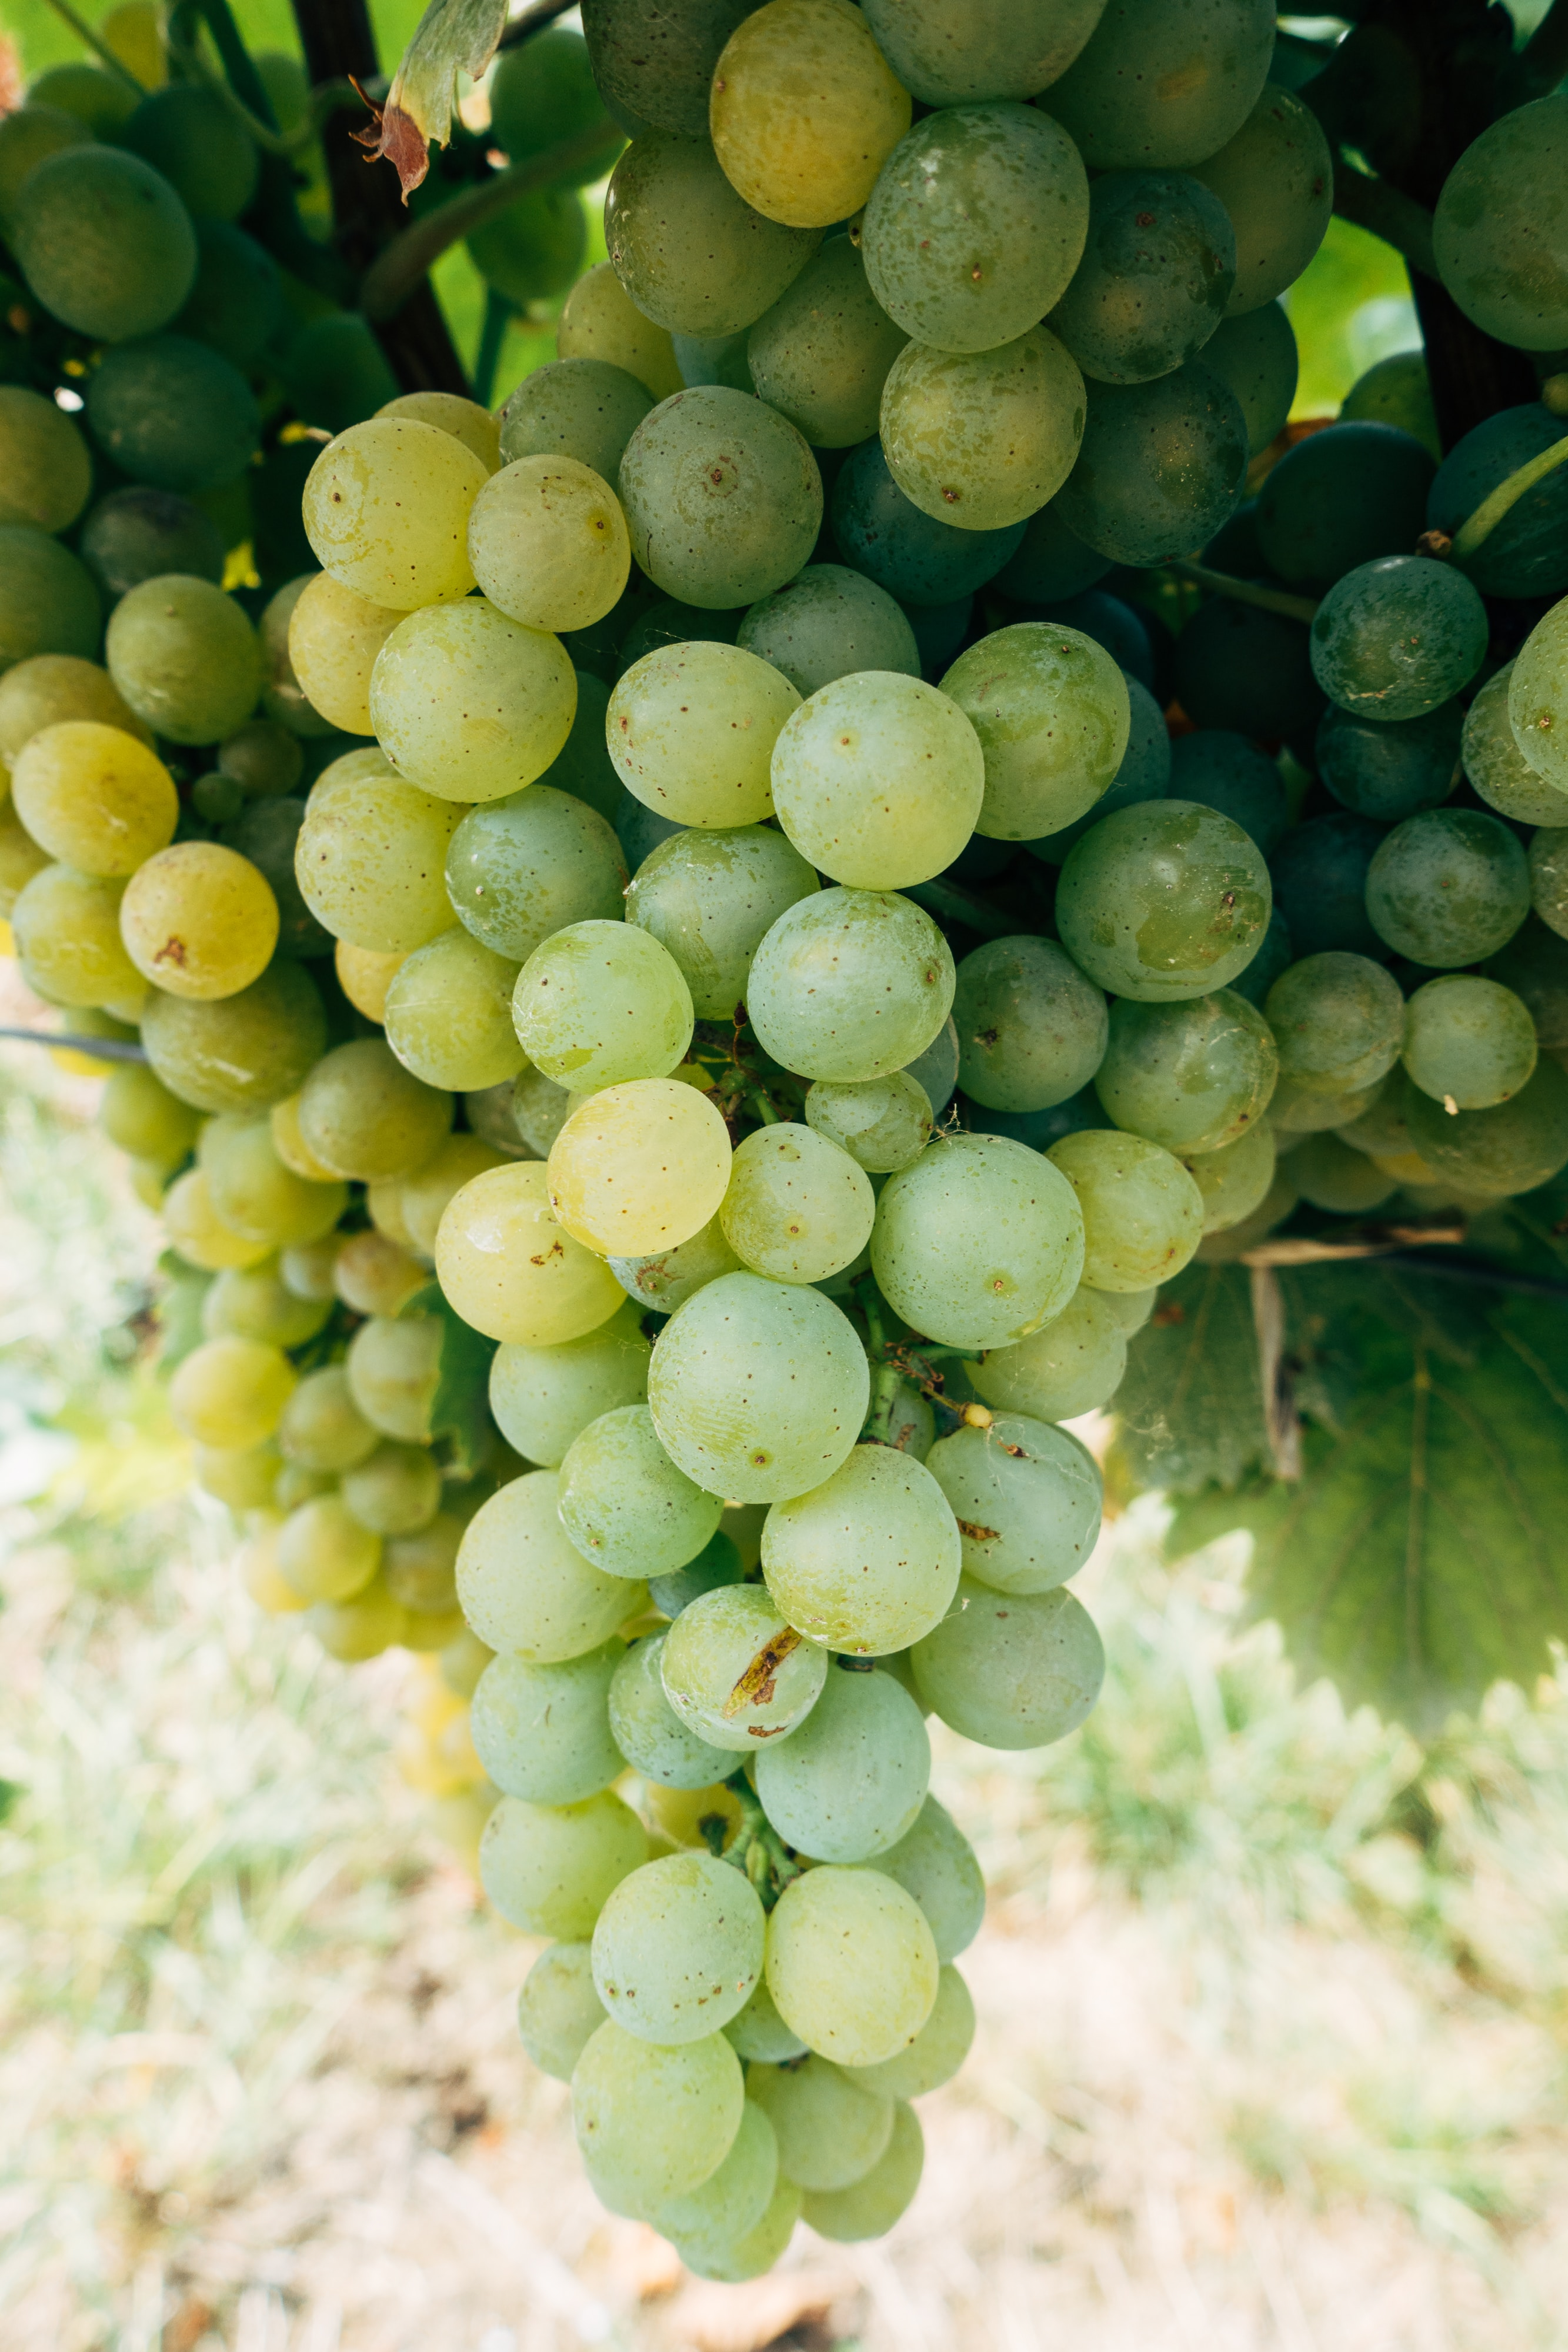healthy: (1071, 794, 1276, 1022), (763, 670, 980, 880), (658, 1277, 857, 1498), (884, 124, 1092, 329), (763, 1445, 957, 1655), (752, 899, 976, 1071), (878, 1164, 1081, 1353), (875, 329, 1097, 499), (17, 154, 198, 338), (418, 1188, 618, 1353), (306, 404, 476, 595), (381, 614, 576, 779), (471, 1767, 647, 1948), (766, 1865, 927, 2063), (607, 131, 793, 303), (647, 401, 824, 577), (763, 1662, 936, 1843), (1067, 168, 1223, 364), (1074, 0, 1265, 157), (917, 1416, 1097, 1580), (730, 3, 871, 210), (1074, 397, 1251, 562), (927, 1561, 1085, 1745), (607, 660, 782, 824), (595, 1857, 756, 2030), (1449, 131, 1568, 364), (296, 772, 457, 943), (966, 637, 1123, 808), (553, 1097, 730, 1246), (479, 460, 640, 618), (523, 940, 700, 1081), (763, 243, 903, 420), (576, 2026, 723, 2194), (464, 1487, 625, 1636), (457, 1648, 628, 1783), (1305, 569, 1489, 693), (135, 581, 276, 742), (1052, 1134, 1206, 1277), (497, 1307, 651, 1449), (1130, 1011, 1291, 1146), (565, 1423, 730, 1554), (448, 801, 611, 933), (3, 730, 184, 847), (726, 1139, 878, 1277), (142, 992, 325, 1106), (1377, 824, 1542, 950), (131, 850, 283, 985), (661, 1599, 815, 1731), (93, 348, 262, 465), (1228, 86, 1321, 299), (576, 14, 733, 124), (969, 955, 1092, 1097), (871, 0, 1088, 79), (976, 1300, 1127, 1412), (661, 2128, 796, 2250), (381, 978, 520, 1090), (1423, 975, 1535, 1113), (779, 2030, 884, 2177), (523, 1928, 614, 2082), (1295, 950, 1381, 1109), (14, 880, 119, 1008), (191, 1139, 322, 1239), (0, 539, 96, 651), (0, 397, 79, 532), (500, 367, 644, 434), (168, 1370, 283, 1442), (191, 1284, 313, 1333)
